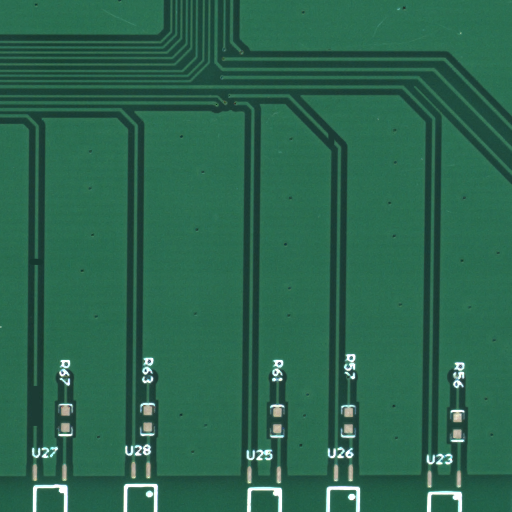Open_circuit: (35, 405, 46, 450), (331, 140, 345, 163), (35, 260, 47, 273)
